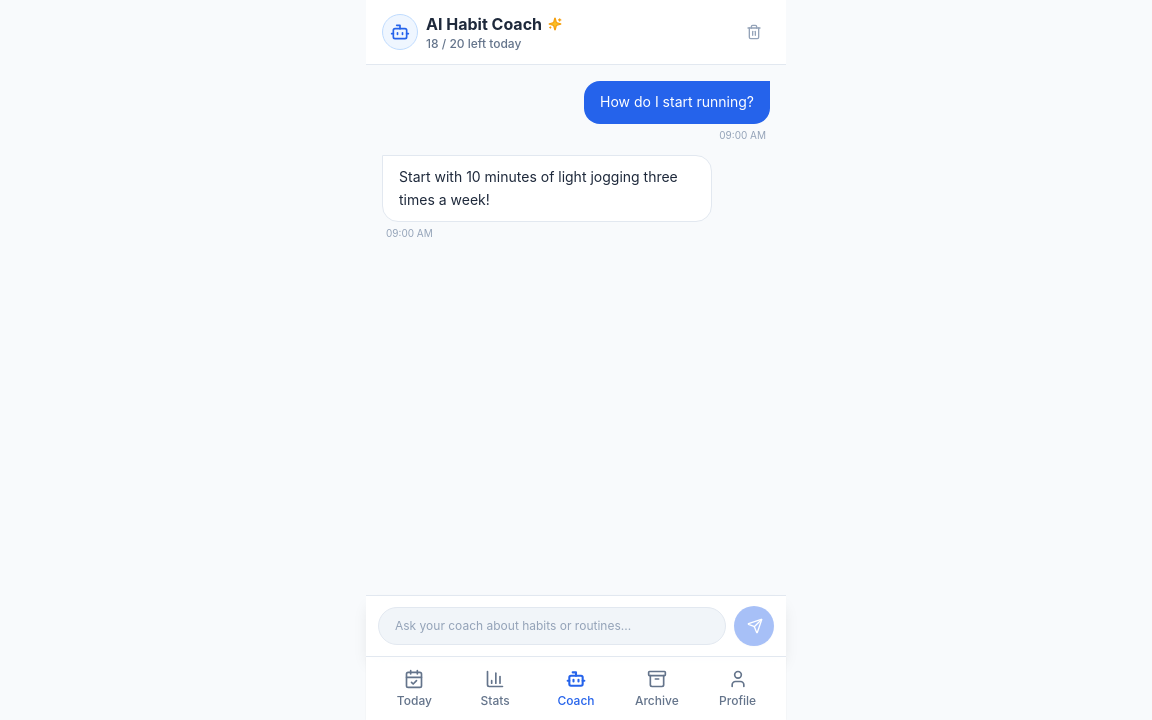
Test: CoachPage (Step 10.4) › clears chat history after confirming modal
Check: the text "How do I start running?" is shown, box [600,91,754,114]
Click the button with test id "coach-clear-button": point(754, 32) [738,16,770,48]
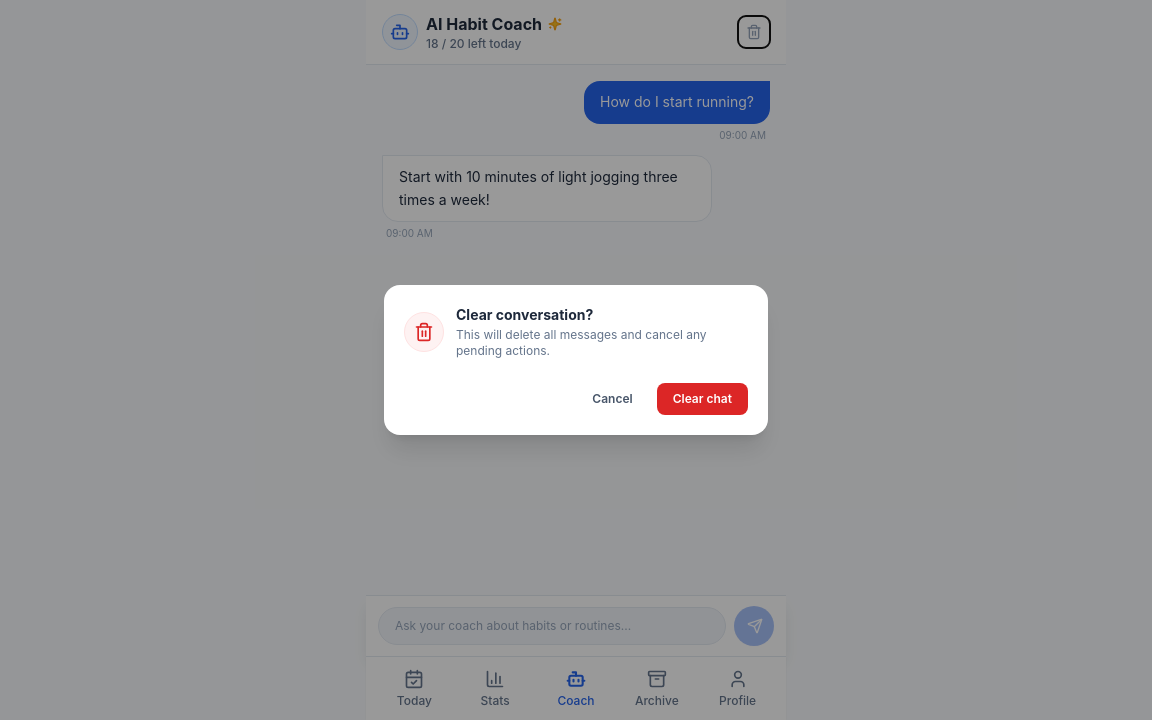
Check: the heading "Clear conversation?" is shown, box [456,306,593,323]
Click the button "Clear chat": point(702, 399) [657,383,748,415]
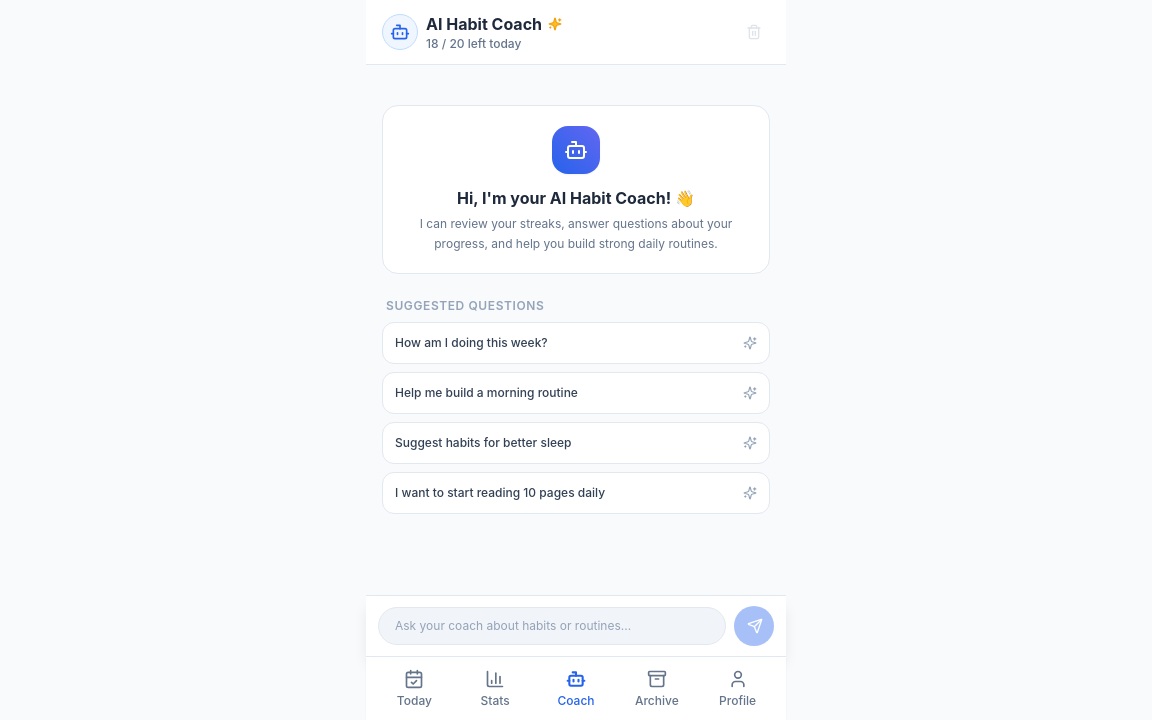
Check: the text "How do I start running?" is gone
